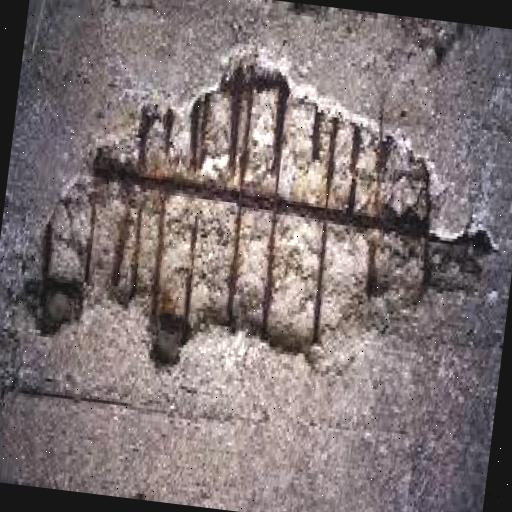spalling: (28, 62, 498, 365)
